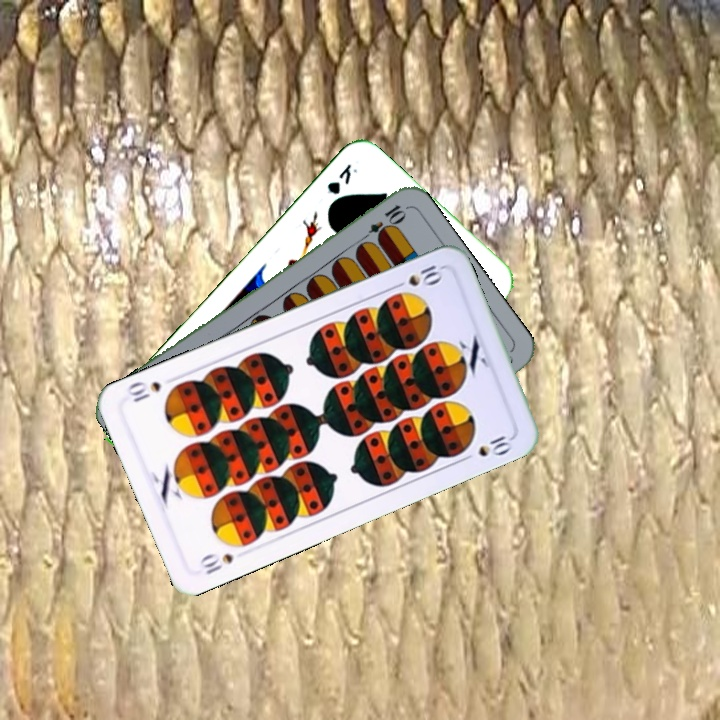E10: (356, 200, 408, 246)
GK: (323, 159, 361, 198)
S10: (388, 261, 446, 292), (195, 549, 236, 577)
